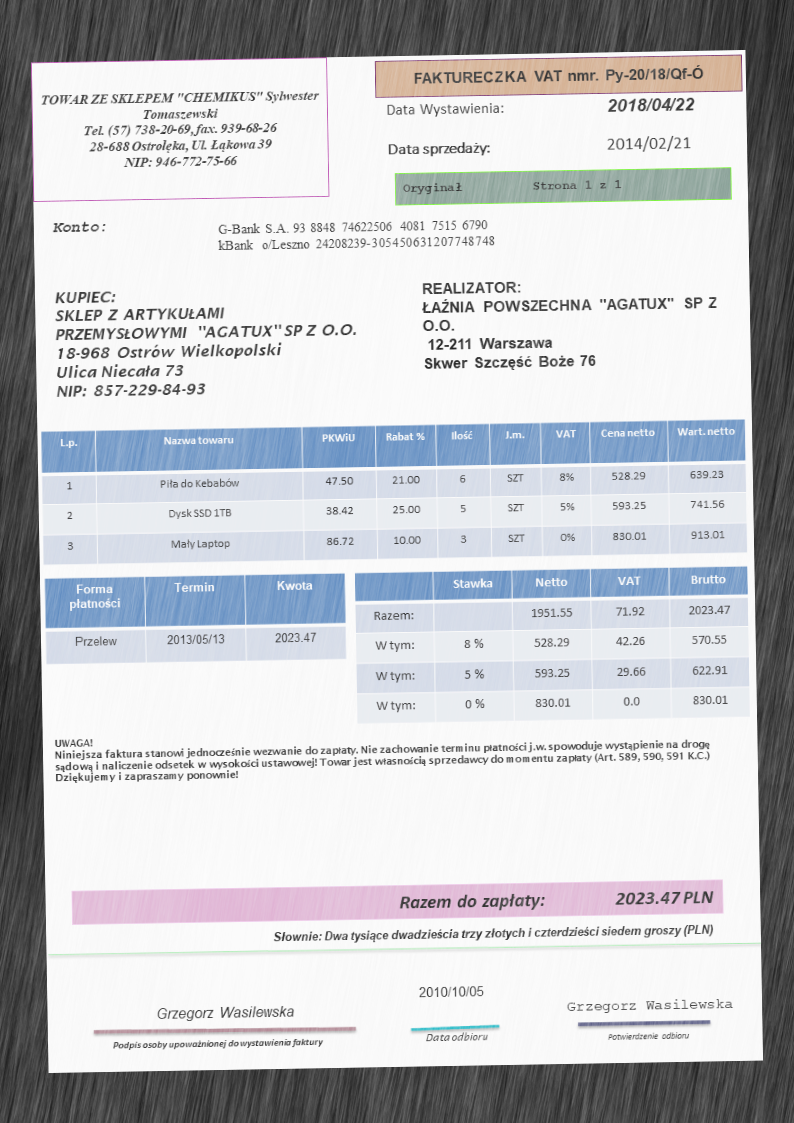Table: (39, 418, 749, 565), (353, 564, 752, 724), (44, 573, 347, 665)
TextBox: (52, 723, 713, 787), (50, 283, 362, 401), (419, 274, 721, 374), (38, 84, 322, 174), (270, 918, 720, 948), (213, 215, 497, 256), (394, 882, 717, 916), (408, 62, 705, 86), (401, 175, 623, 197), (108, 1032, 326, 1053), (562, 994, 734, 1015), (154, 998, 297, 1023), (384, 98, 505, 119), (385, 137, 493, 160), (602, 92, 697, 117), (604, 132, 694, 156), (604, 1027, 693, 1045), (414, 981, 486, 1002), (49, 217, 107, 236), (423, 1027, 491, 1043)
